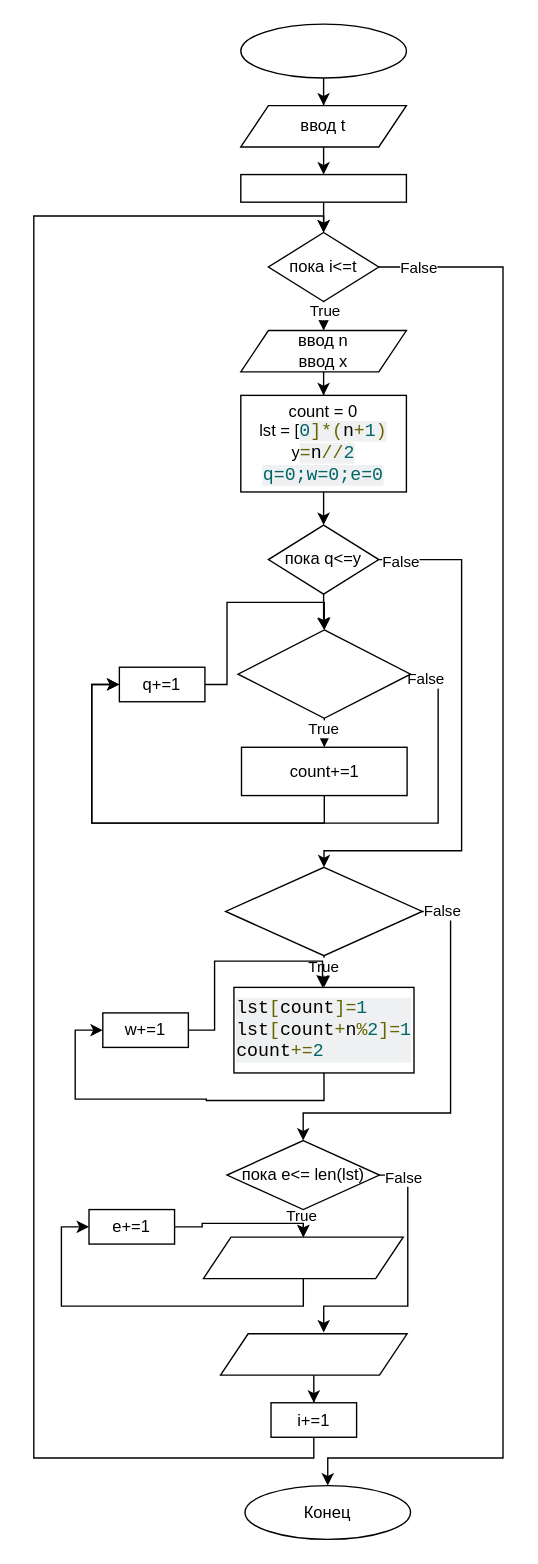
This 538x1564 diagram has some shape labels left out. The centre of each missing label's shape, as x and y in pixels:
i=0: (x=322, y=187)
x [ i ]!= x [ n - 1 - i ]: (x=324, y=673)
вывод lst[e], end = '': (x=302, y=1257)
вывод пустой строки: (x=313, y=1353)
Начало: (x=322, y=50)
пока w<= y - count + 1: (x=323, y=911)
